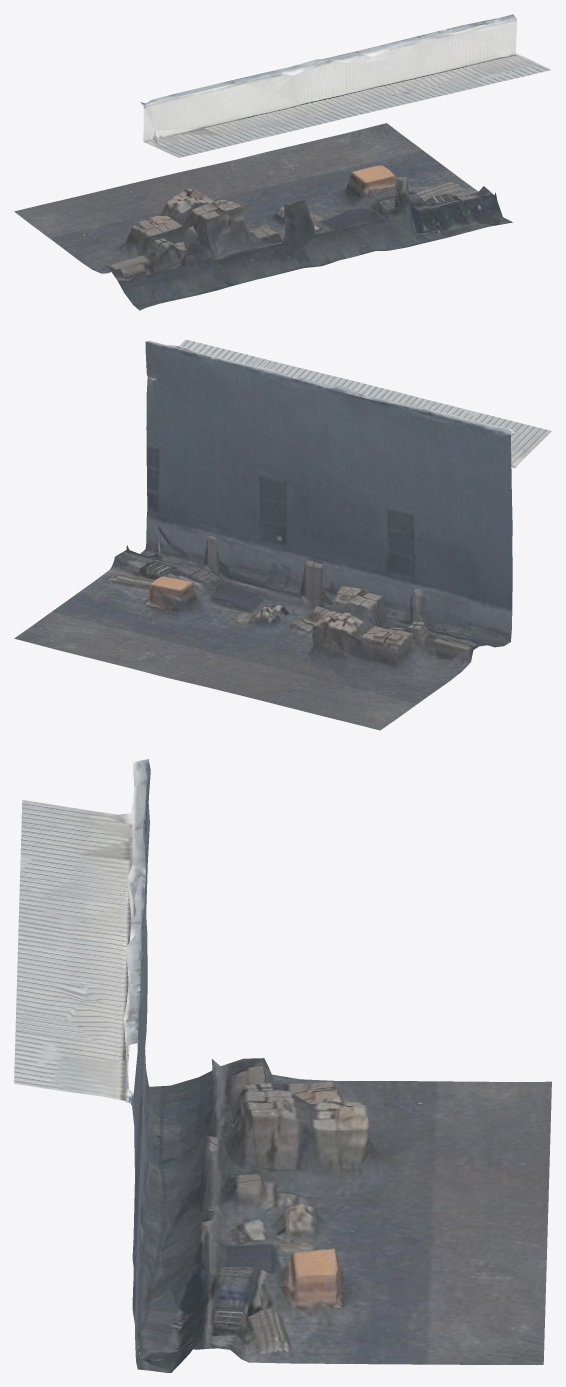
The model's file is Tile_+007_+005_L20_0uuuu00.glb.
3 renders of one model, top to bottom at view 1: azimuth 30°, elevation 25°; view 2: azimuth 150°, elevation 25°; view 3: azimuth 270°, elevation 25°, orthographic. The views are drawn at different scales.
Parts seen in each view (by area): view 1: rtc; view 2: rtc; view 3: rtc.
Part boxes in pixels (x1,y1,x2,y2): rtc: [14, 14, 551, 310]; rtc: [14, 339, 551, 730]; rtc: [14, 759, 551, 1372].
Size of the model in its own units: 24.08 by 13.27 by 19.13.
Materials: 2 (2 with a texture image).
